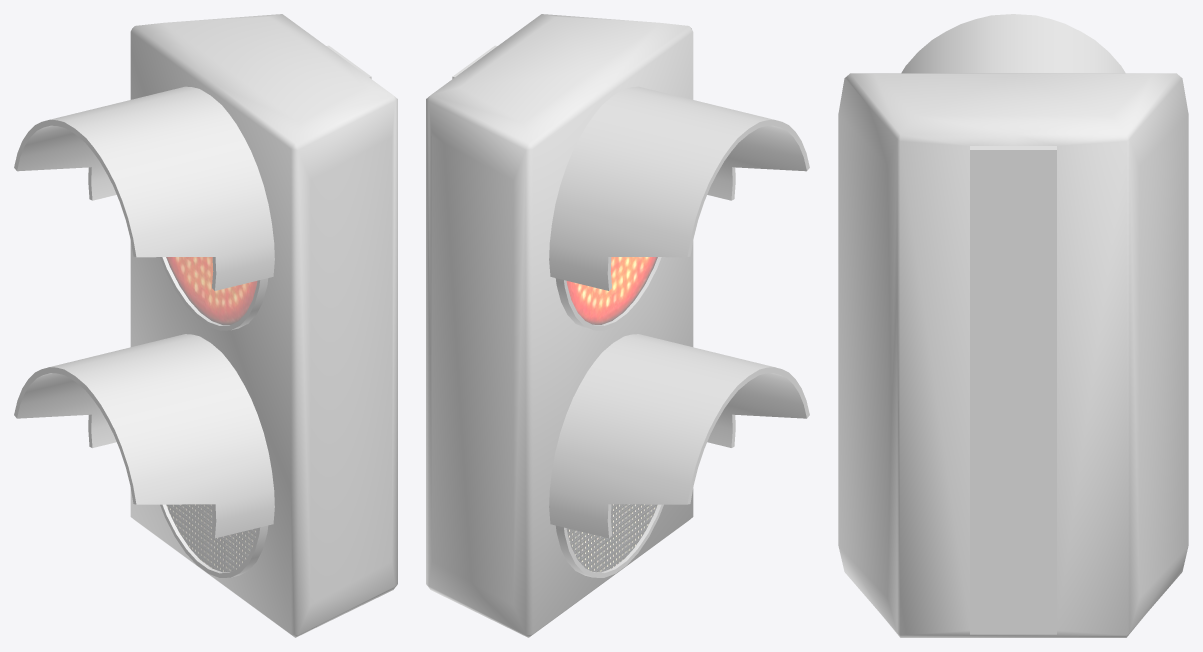
File: 双色指示灯_RedLight.glb
The picture shows the model from 3 angles, left to right: view 1: azimuth 30°, elevation 25°; view 2: azimuth 150°, elevation 25°; view 3: azimuth 270°, elevation 25°; orthographic projection.
Visible parts, largest first — view 1: 双色指示灯_RedLight; view 2: 双色指示灯_RedLight; view 3: 双色指示灯_RedLight.
Part boxes in pixels (bbox=[...]): 双色指示灯_RedLight: bbox=[14, 14, 397, 637]; 双色指示灯_RedLight: bbox=[426, 14, 809, 637]; 双色指示灯_RedLight: bbox=[838, 14, 1188, 637].
Bounding box in the file's own units: 0.6001 × 1.06 × 0.65.
Materials: 3 (2 with a texture image).
